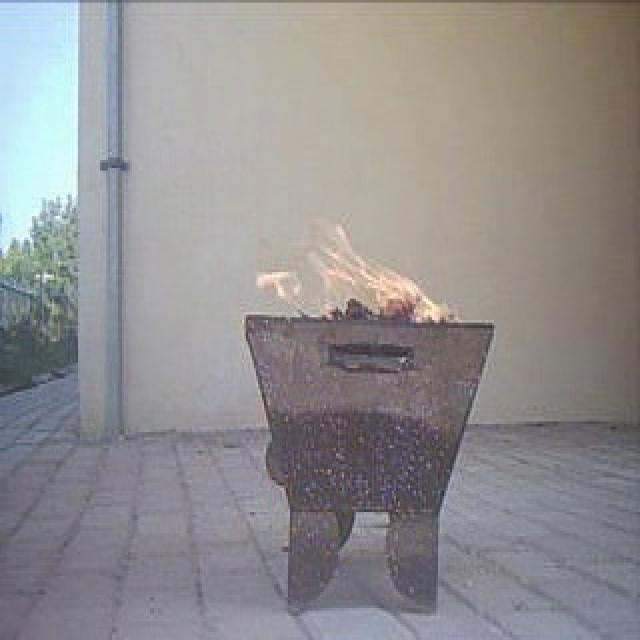fire: (314, 234, 421, 314)
